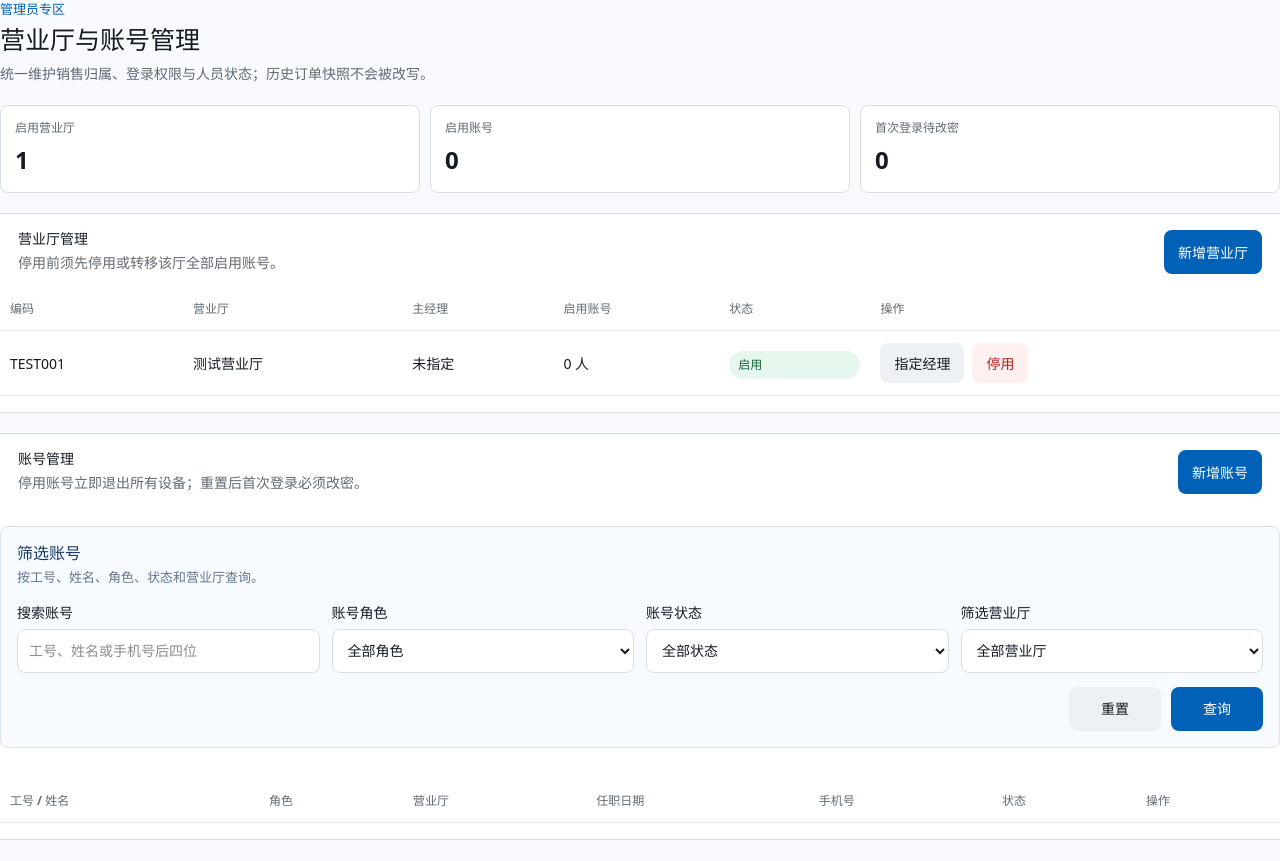
营业厅与账号管理表单 › 指定营业厅主经理时明确提示原因最小长度
Click the button "指定经理". click: point(922, 363)
box: [880,343,964,383]
(page scrolled)
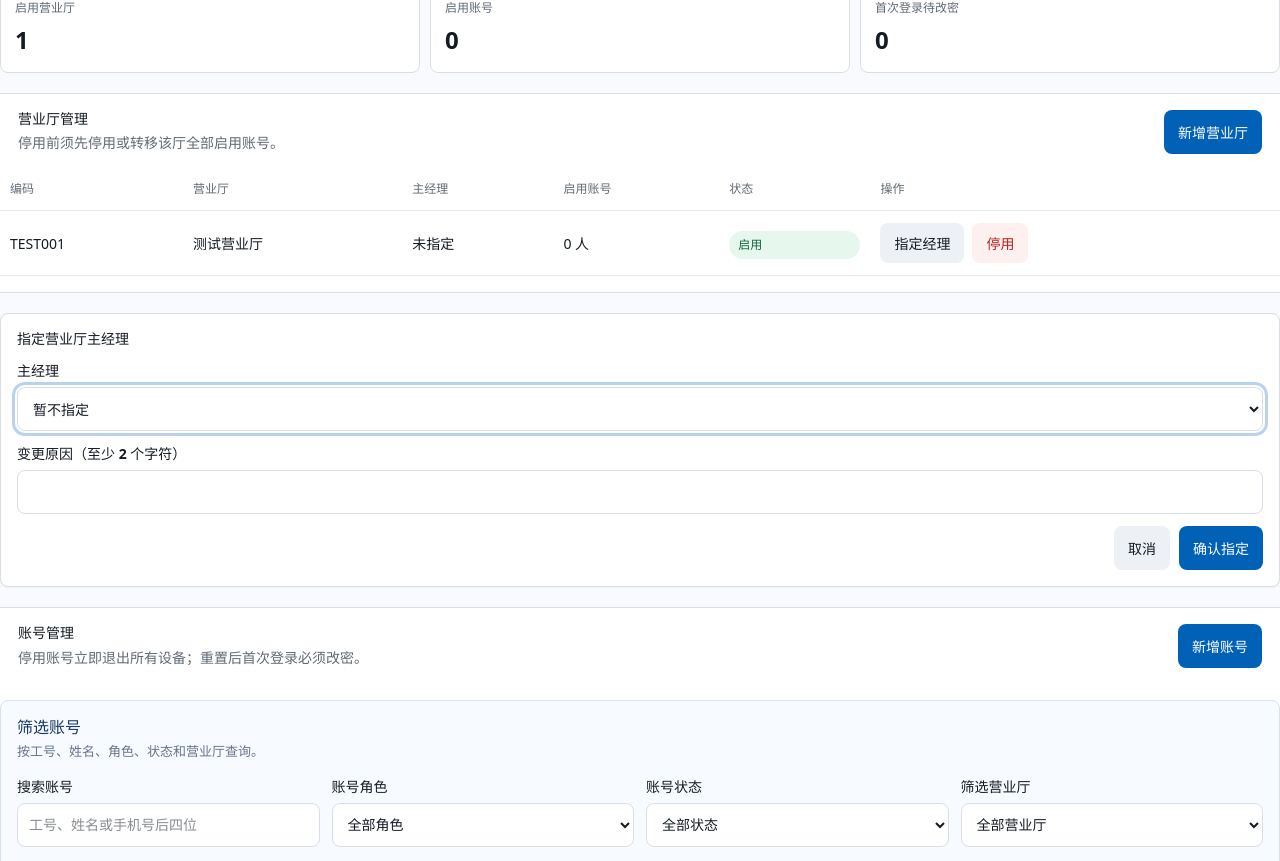
Type "1" into the field labelled "变更原因（至少 2 个字符）". click: point(640, 492)
box: [17,470,1263,514]
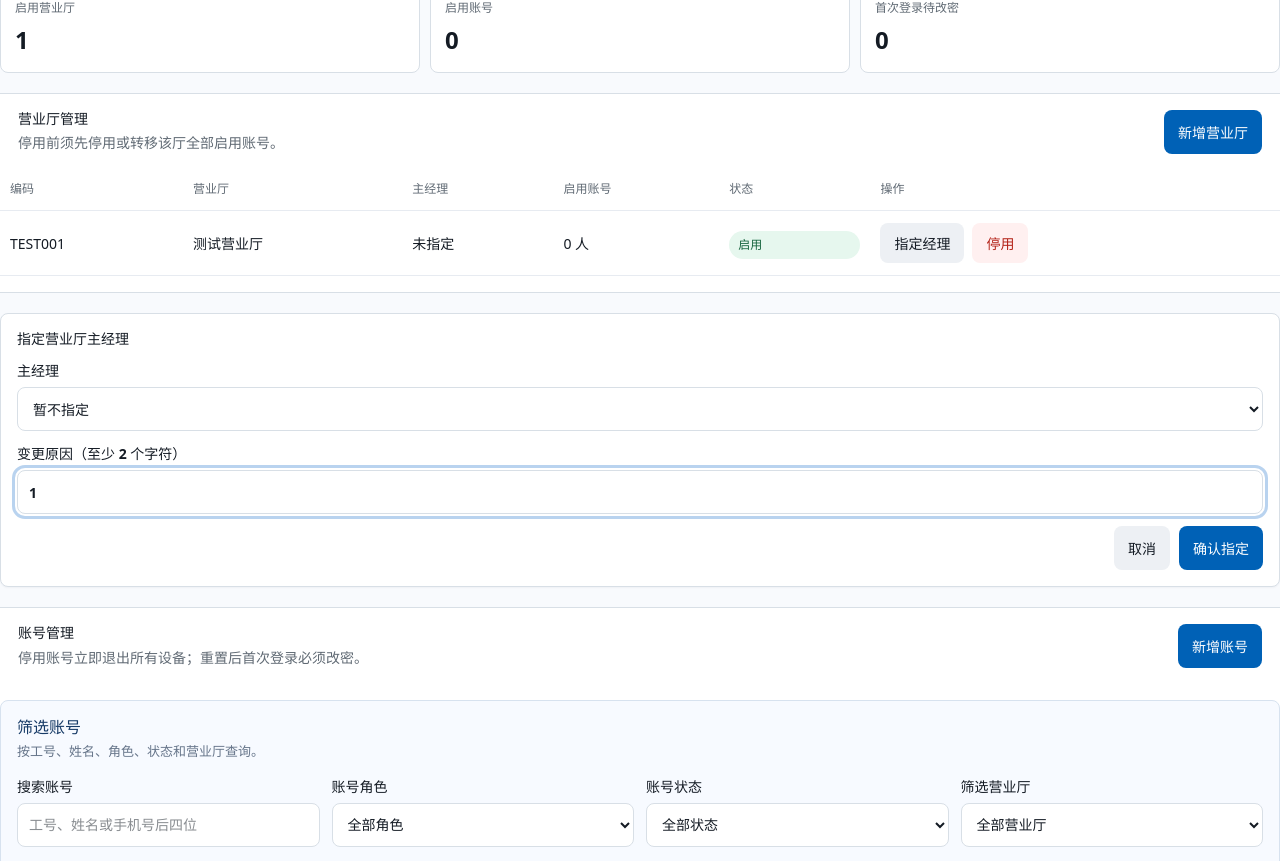
Click the button "确认指定". click: point(1221, 548)
box: [1179,526,1263,570]
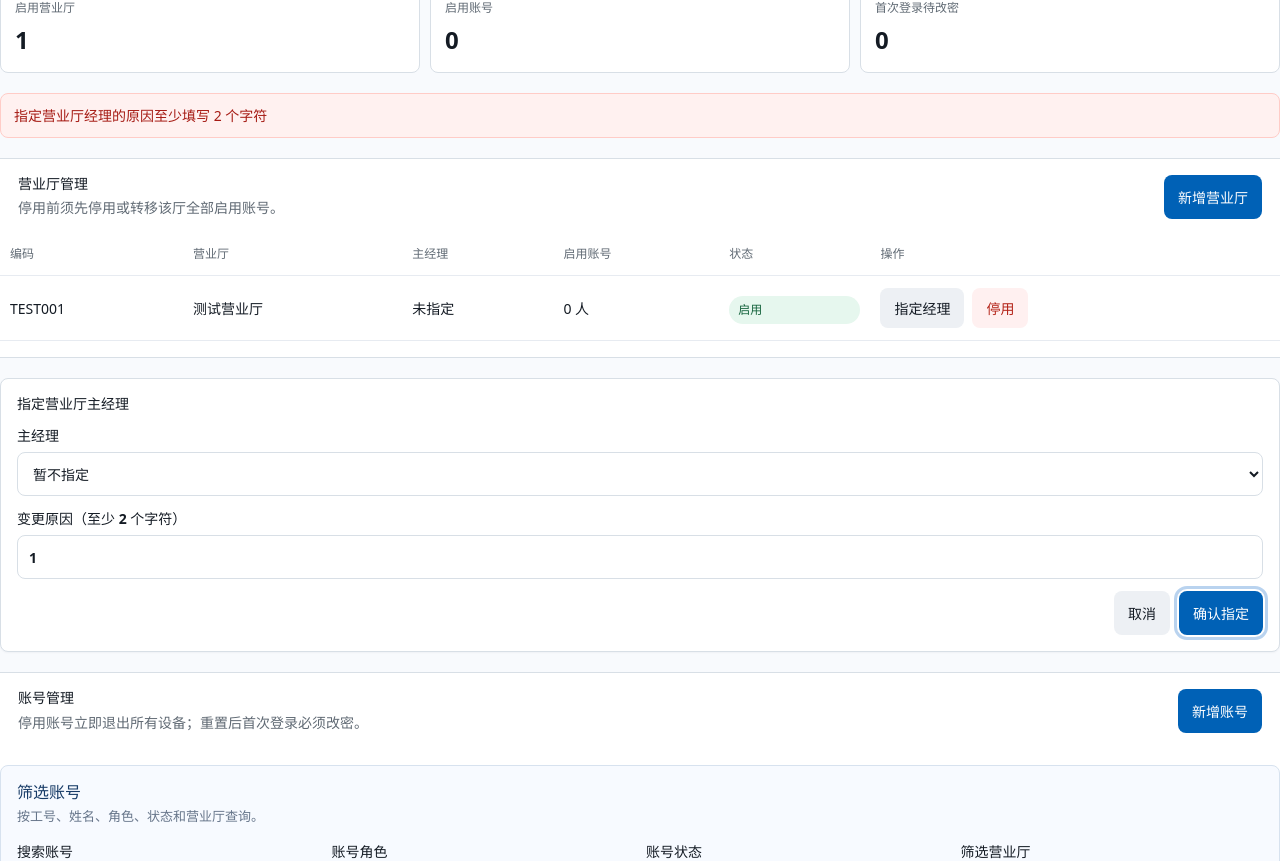
Result: the message reads "指定营业厅经理的原因至少填写 2 个字符" at [14,106,267,125]
